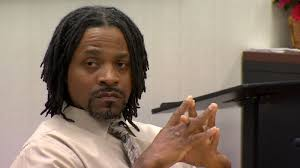person: (41, 5, 147, 123)
